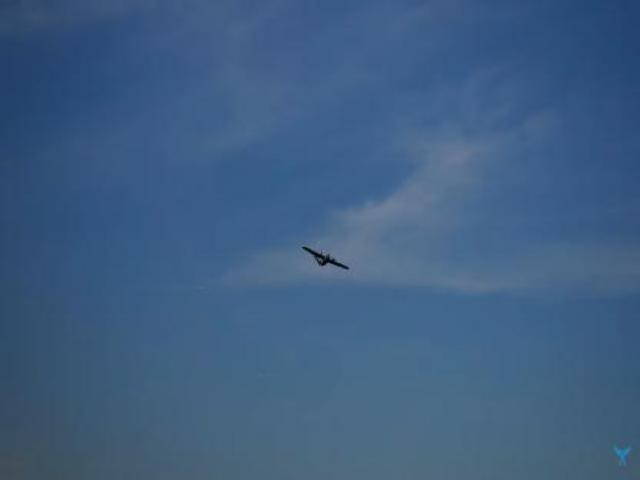uav: (298, 224, 352, 286)
